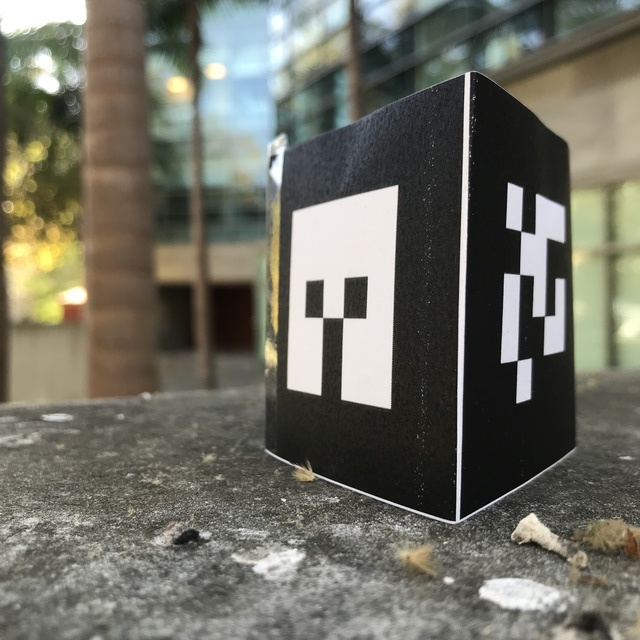ARTag: (265, 70, 578, 523)
